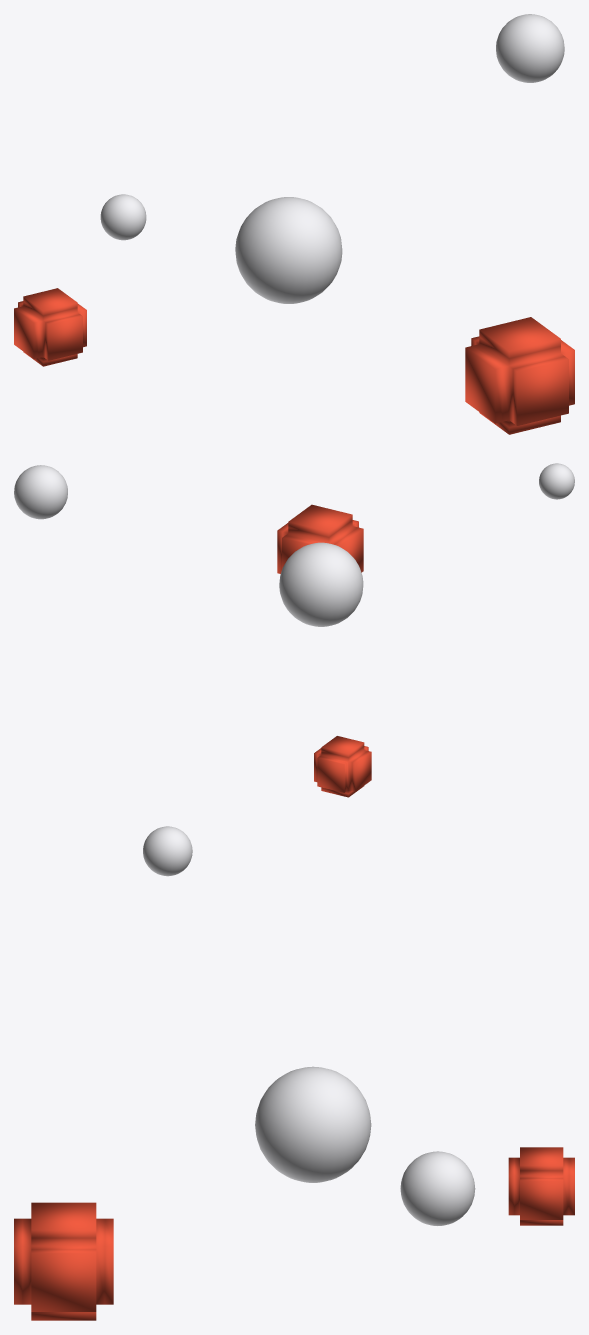
Rendered from satellites.glb.
3 views of the same model, one above another, from view 1: azimuth 30°, elevation 25°; view 2: azimuth 150°, elevation 25°; view 3: azimuth 270°, elevation 25° (orthographic). The views are drawn at different scales.
Parts seen in each view (by area): view 1: SatCubeA, SatSphereA, SatCubeB, SatSphereB, SatSphereC; view 2: SatSphereA, SatCubeA, SatCubeB, SatSphereB, SatSphereC; view 3: SatCubeA, SatSphereA, SatCubeB, SatSphereB, SatSphereC.
Part boxes in pixels (<box>): SatCubeA: <box>465,317,574,434</box>; SatSphereA: <box>235,197,342,303</box>; SatCubeB: <box>14,288,86,366</box>; SatSphereB: <box>496,14,564,82</box>; SatSphereC: <box>100,194,146,240</box>; SatSphereA: <box>279,542,363,626</box>; SatCubeA: <box>277,504,363,573</box>; SatCubeB: <box>314,736,371,797</box>; SatSphereB: <box>14,465,67,519</box>; SatSphereC: <box>539,463,574,499</box>; SatCubeA: <box>14,1202,113,1320</box>; SatSphereA: <box>255,1066,371,1182</box>; SatCubeB: <box>508,1147,574,1225</box>; SatSphereB: <box>400,1151,475,1225</box>; SatSphereC: <box>143,826,192,876</box>.
Bounding box in the file's own units: 1.75 × 0.89 × 1.35.
